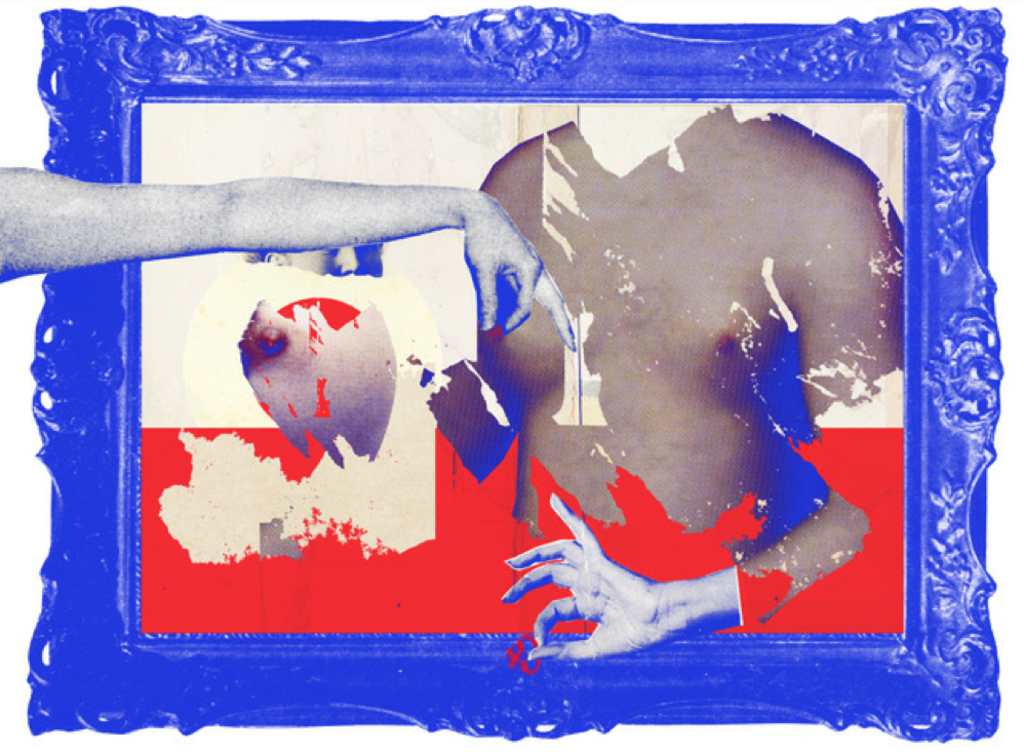Human_hand: (497, 490, 663, 665), (461, 195, 576, 353)
